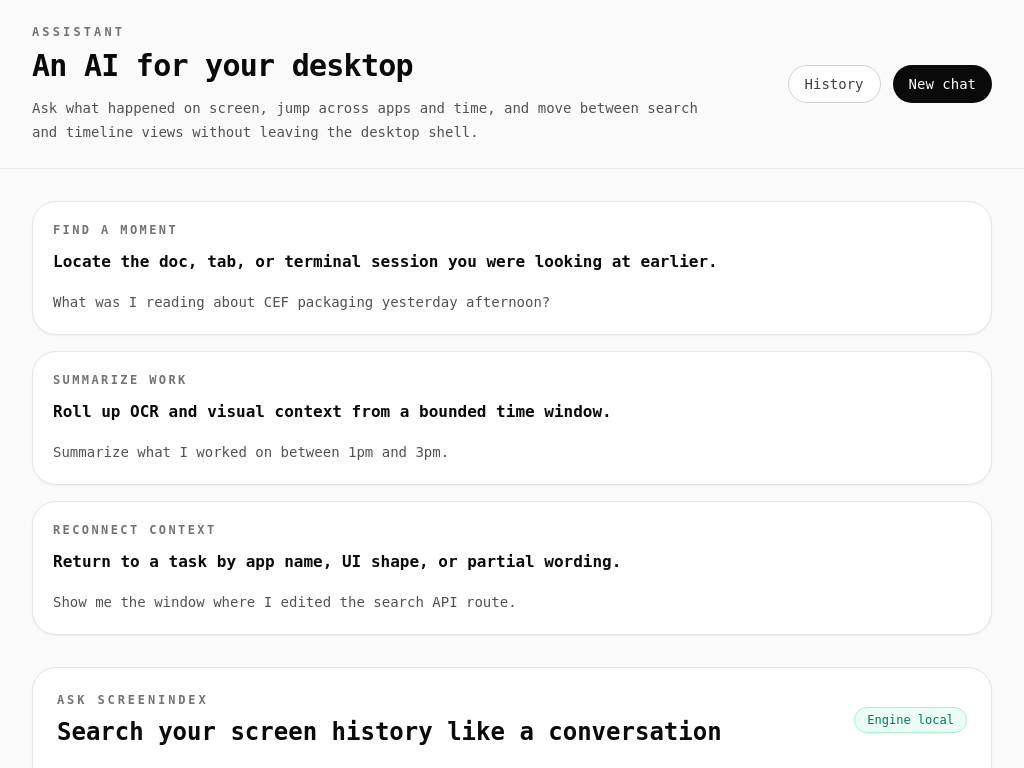
Test: HomeView › opens the chat screen from the new chat button
This screenshot has width=1024, height=768.
Click the button "New chat". click: click(942, 84)
box: [893,65,992,103]
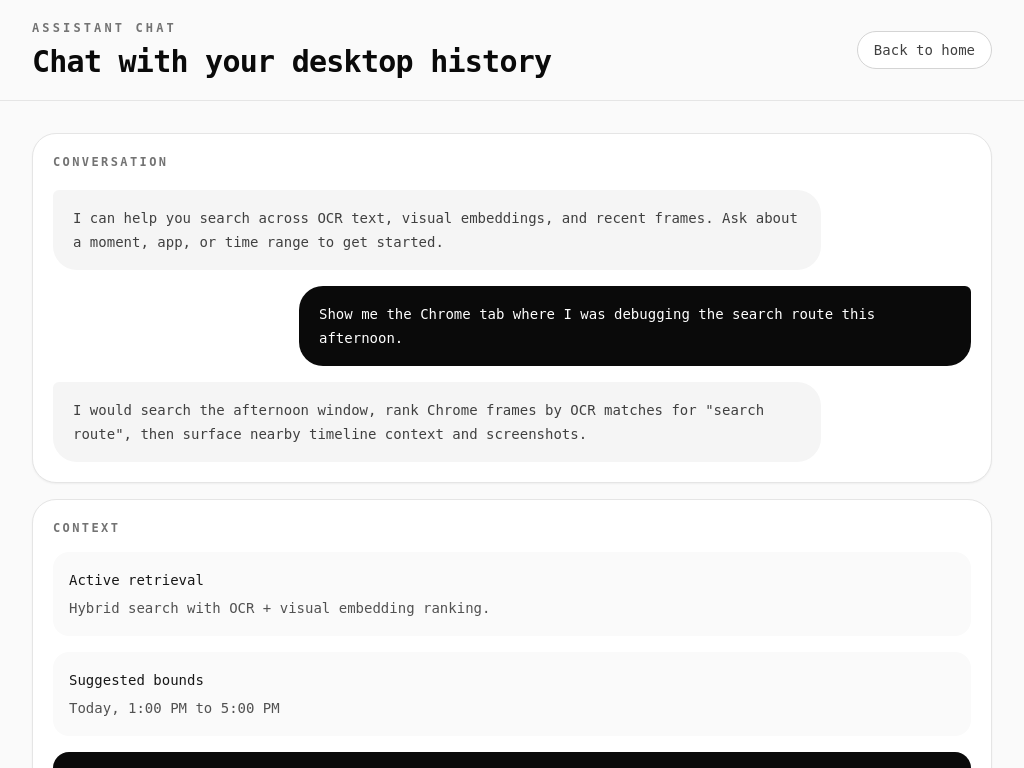
expect the heading "Chat with your desktop history" is shown: met, box [32,44,551,80]
